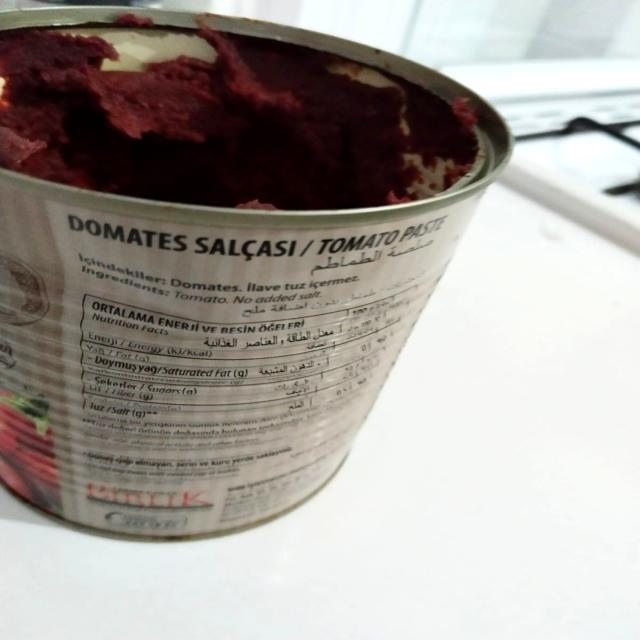tomato paste: (0, 12, 487, 527)
